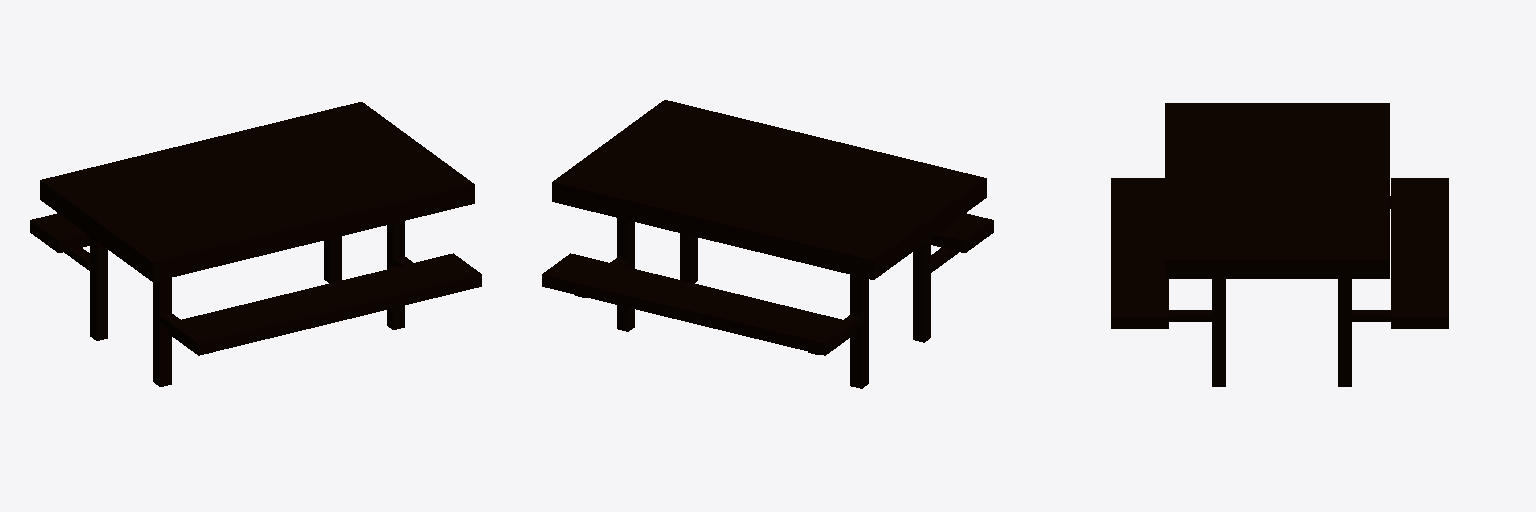
File: picnicTable.obj
The picture shows the model from 3 angles: view 1: azimuth 30°, elevation 25°; view 2: azimuth 150°, elevation 25°; view 3: azimuth 270°, elevation 25°; orthographic projection.
Parts seen in each view (by area): view 1: picnicTable1; view 2: picnicTable1; view 3: picnicTable1.
Part boxes in pixels (x1,y1,x2,y2): picnicTable1: (30,102,481,386); picnicTable1: (542,100,993,388); picnicTable1: (1111,103,1448,386).
Bounding box in the file's own units: 55.79 × 24.83 × 50.71.